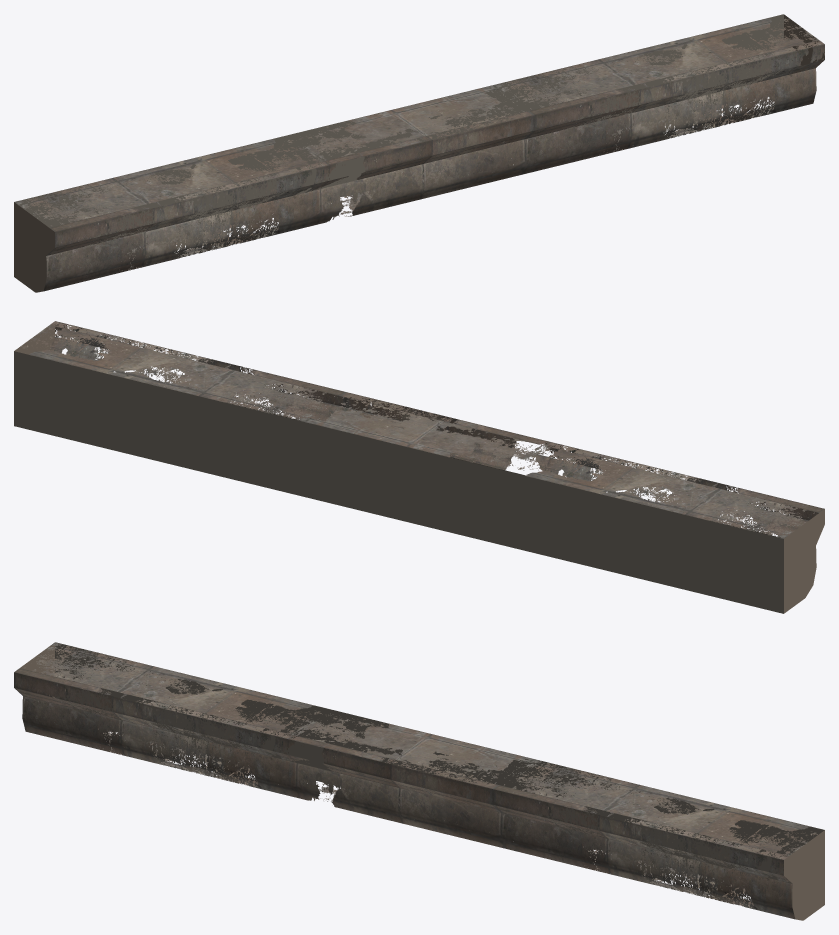
File: SM_Trim_01a.fbx
3 renders of one model, top to bottom at view 1: azimuth 30°, elevation 25°; view 2: azimuth 150°, elevation 25°; view 3: azimuth 330°, elevation 25°, orthographic.
Visible parts, largest first — view 1: SM_Trim_01a; view 2: SM_Trim_01a; view 3: SM_Trim_01a.
Boxes of the visible parts, x1=… form: SM_Trim_01a: x1=14, y1=14, x2=824, y2=292; SM_Trim_01a: x1=14, y1=321, x2=824, y2=613; SM_Trim_01a: x1=14, y1=642, x2=824, y2=920.
Size of the model in its own units: 2032 by 189 by 188.
